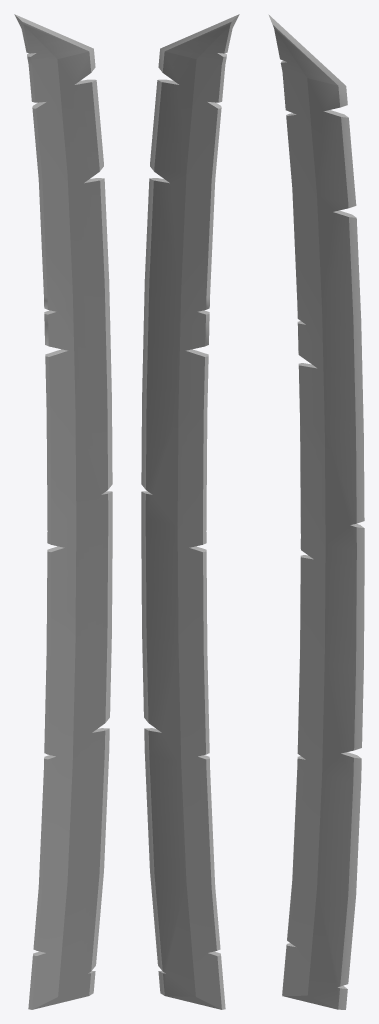
File: stone_blade_scratched_057.glb
3 views of the same model, side by side, from view 1: azimuth 30°, elevation 25°; view 2: azimuth 150°, elevation 25°; view 3: azimuth 330°, elevation 25° (orthographic). The views are drawn at different scales.
Visible parts, largest first — view 1: stone_blade_scratched.057; view 2: stone_blade_scratched.057; view 3: stone_blade_scratched.057.
Boxes of the visible parts, x1,y1,x2,y2 form: stone_blade_scratched.057: (14, 14, 112, 1009); stone_blade_scratched.057: (141, 14, 239, 1009); stone_blade_scratched.057: (268, 14, 364, 1009).
Bounding box in the file's own units: 1.22 × 11.77 × 0.0749.
1 material, 1 textured.
